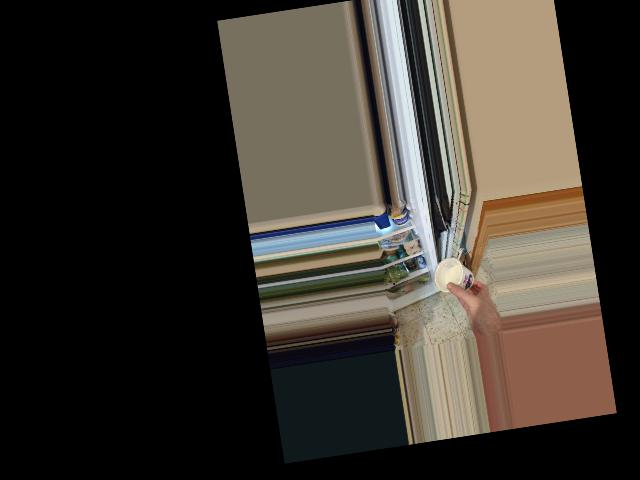cotage: (435, 255, 477, 297)
